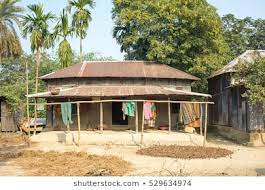Tin-shade House: (27, 50, 211, 144), (206, 46, 265, 134)
